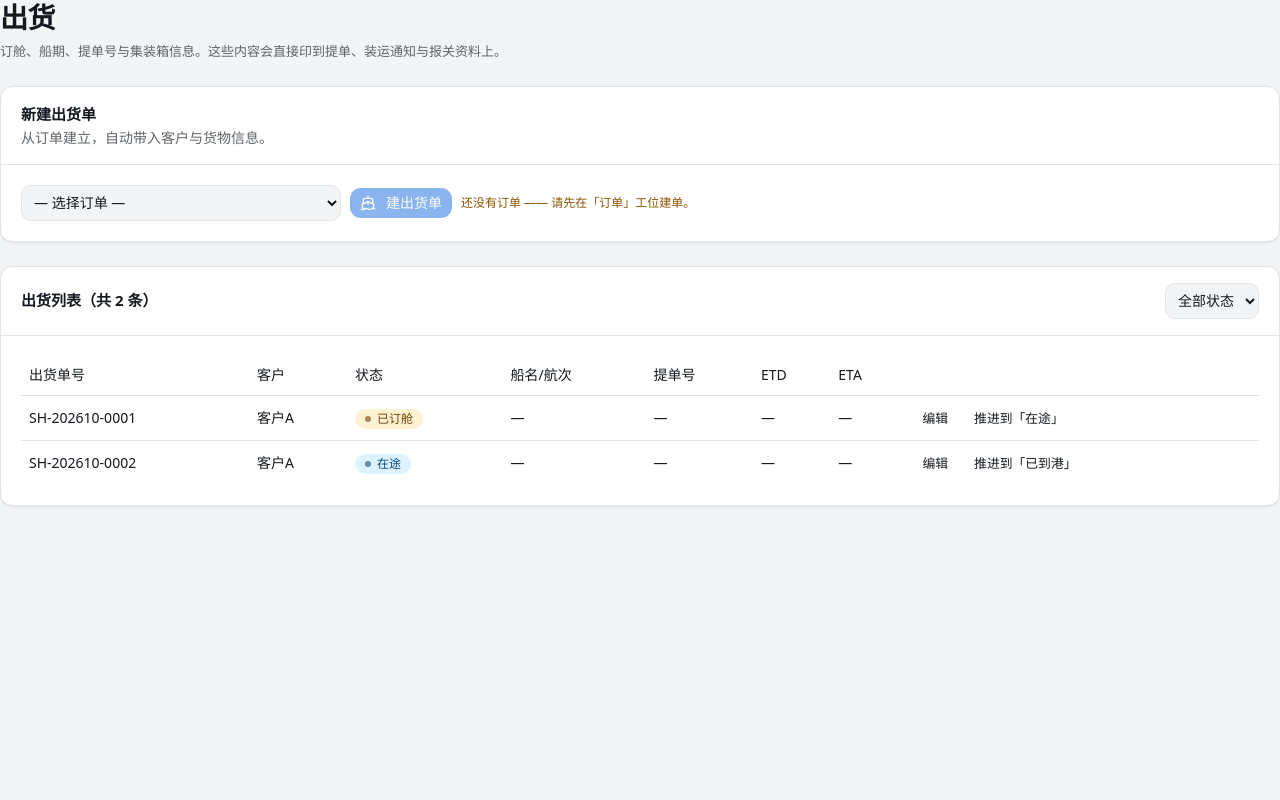
Test: 出货编辑弹窗 · 详情查询 › 打开即查 GET /shipments/{id}，表单初值来自详情（不是列表快照）
Click the button "编辑" in the row of "SH-202610-0001": (935, 418) left=912, top=404, right=959, bottom=432
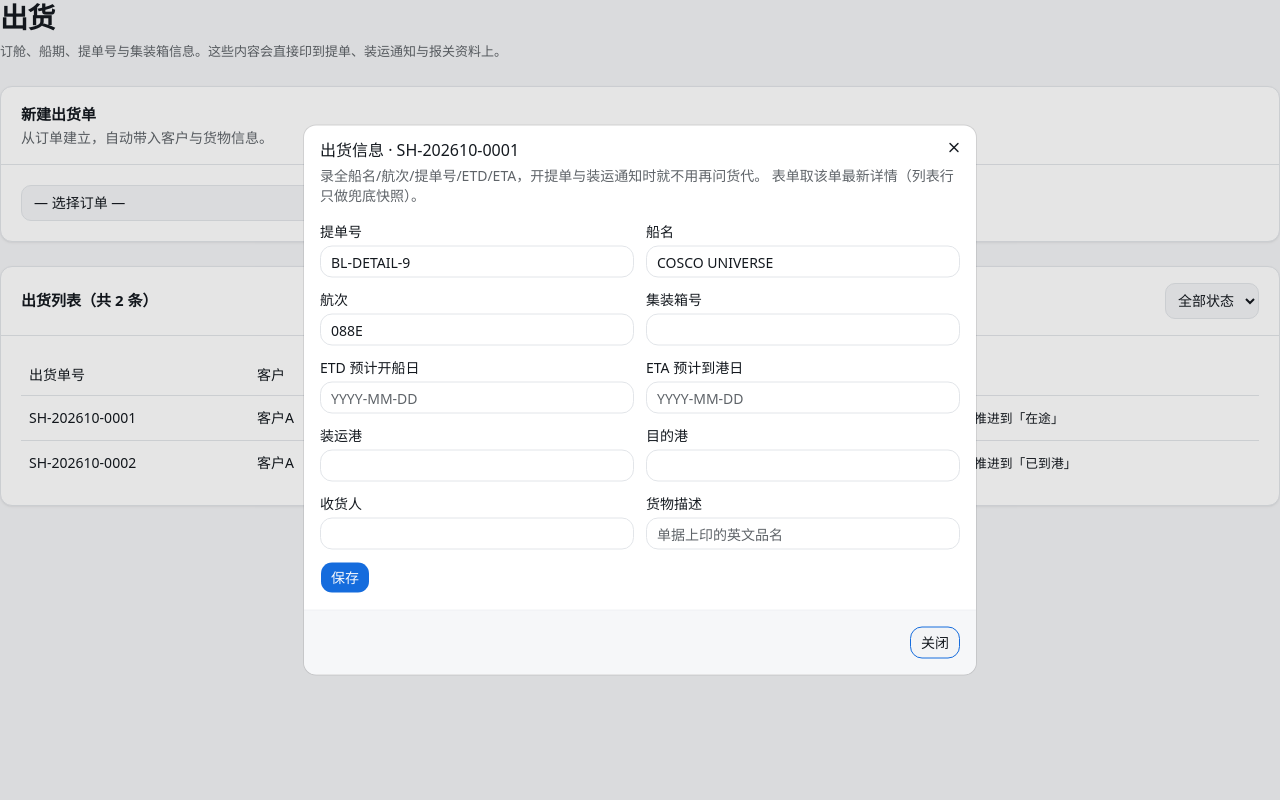
Expected: the field with placeholder "货代给的 B/L No." holds "BL-DETAIL-9", left=320, top=246, right=634, bottom=278
Expected: the dialog shows "出货信息 · SH-202610-0001", left=320, top=138, right=519, bottom=160
Expected: the dialog shows "最新详情", left=320, top=166, right=954, bottom=204
